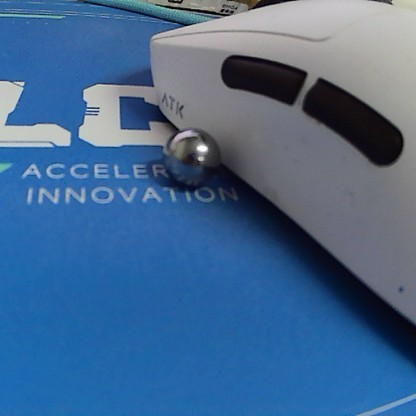ironball: (158, 129, 218, 183)
